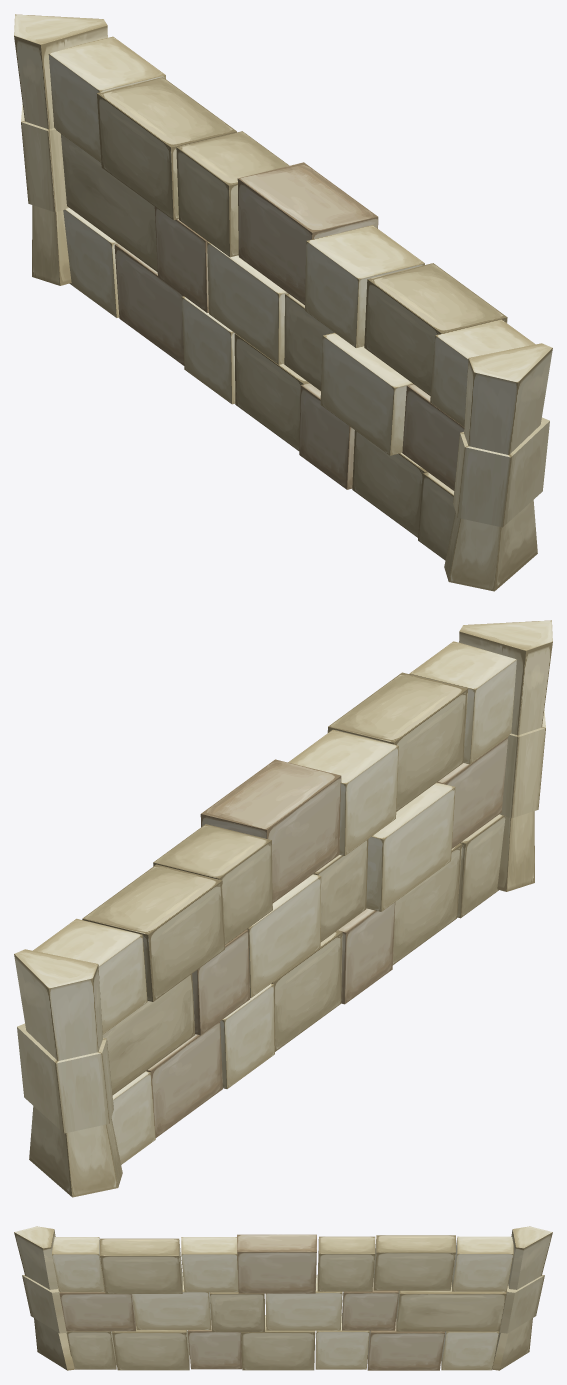
File: mur-texture.FBX
The picture shows the model from 3 angles, top to bottom: view 1: azimuth 30°, elevation 25°; view 2: azimuth 150°, elevation 25°; view 3: azimuth 270°, elevation 25°; orthographic projection. The views are drawn at different scales.
Visible parts, largest first — view 1: Box103; view 2: Box103; view 3: Box103.
Part boxes in pixels (x1,y1,x2,y2): Box103: (14,14,552,591); Box103: (14,620,552,1197); Box103: (14,1226,552,1370).
Size of the model in its own units: 0.2212 by 0.4998 by 2.01.
5 materials, 5 textured.
